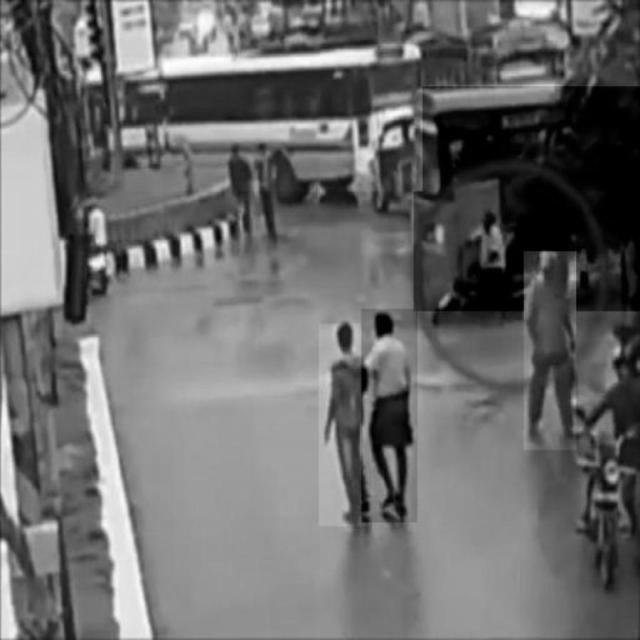accident: (414, 86, 640, 310)
person: (524, 251, 576, 449)
vehicle: (126, 58, 423, 192), (362, 309, 418, 523), (319, 324, 370, 526)
